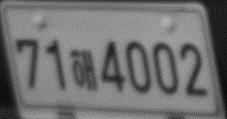0: (124, 41, 153, 93), (151, 41, 179, 93)
1: (41, 38, 69, 89)
2: (178, 41, 209, 98)
4: (98, 41, 127, 92)
7: (14, 37, 40, 89)
해: (69, 48, 98, 92)
